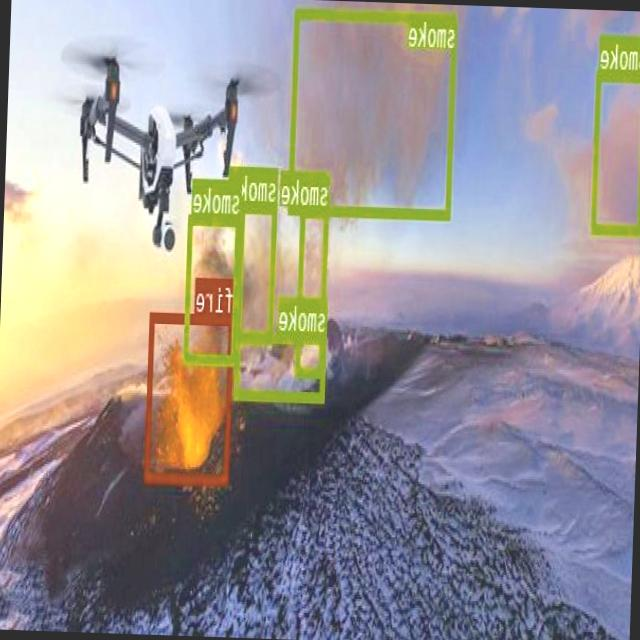fire: (144, 312, 234, 484)
smoke: (290, 6, 458, 217), (184, 212, 242, 362), (591, 68, 640, 233), (235, 330, 328, 400), (236, 202, 278, 342), (296, 206, 330, 377)
